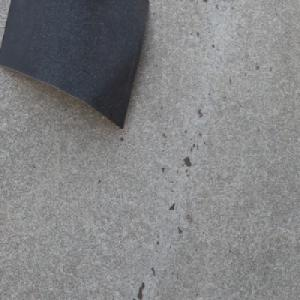PaintChip: (0, 0, 149, 130)
